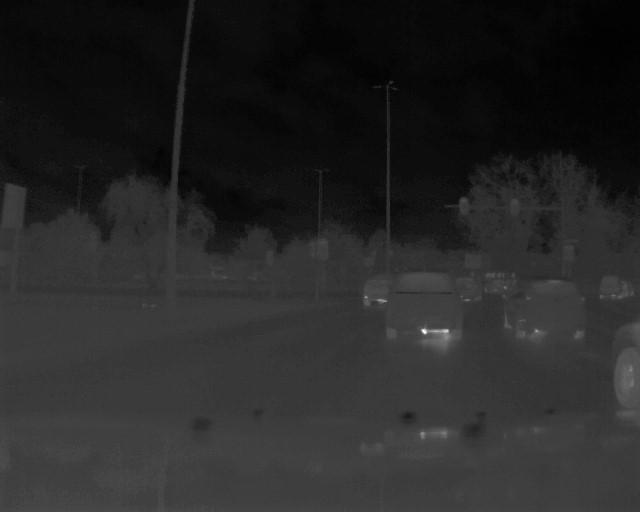car: (383, 271, 466, 343), (503, 278, 588, 347), (598, 269, 625, 301)
